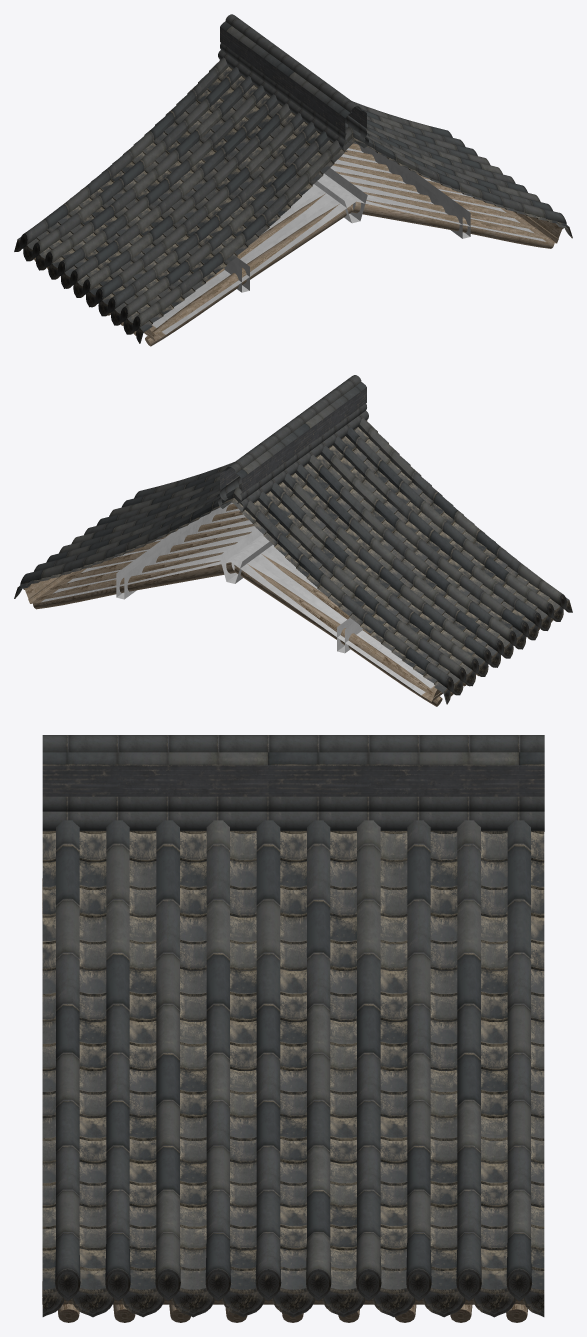
Rendered from SM_JWD_Roof01a.fbx.
3 views of the same model, one above another, from view 1: azimuth 30°, elevation 25°; view 2: azimuth 150°, elevation 25°; view 3: azimuth 270°, elevation 25° (orthographic). The views are drawn at different scales.
Parts seen in each view (by area): view 1: SM_JWD_Roof01a; view 2: SM_JWD_Roof01a; view 3: SM_JWD_Roof01a.
Part boxes in pixels (<box>): SM_JWD_Roof01a: <box>14,14,572,346</box>; SM_JWD_Roof01a: <box>14,375,572,706</box>; SM_JWD_Roof01a: <box>42,735,544,1322</box>.
Bounding box in the file's own units: 599 × 300 × 258.
2 materials, 2 textured.
